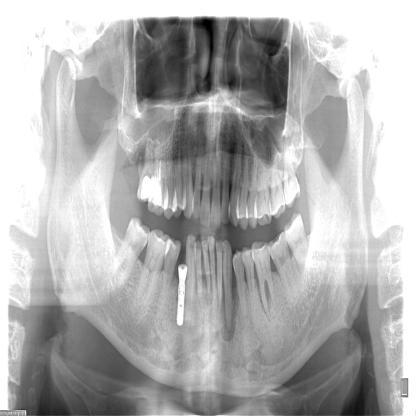ITI: (172, 280, 188, 330)
